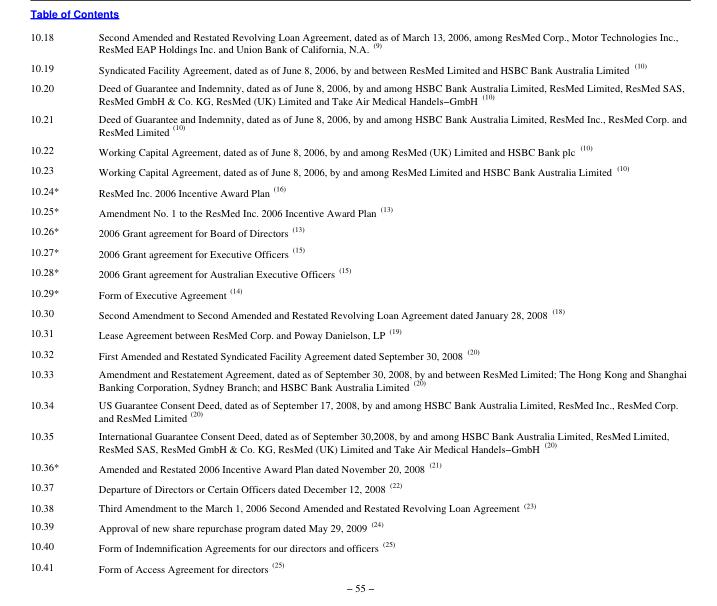table: (29, 28, 686, 574)
table column: (78, 28, 686, 574), (29, 28, 78, 574)
table row: (29, 77, 686, 108), (29, 108, 686, 139), (29, 363, 686, 394), (29, 394, 686, 425), (29, 425, 686, 456), (29, 28, 686, 57), (29, 139, 686, 160), (29, 200, 686, 221), (29, 261, 686, 282), (29, 302, 686, 323), (29, 456, 686, 477), (29, 515, 686, 536), (29, 57, 686, 77), (29, 160, 686, 180), (29, 180, 686, 200), (29, 221, 686, 241), (29, 241, 686, 261), (29, 282, 686, 302), (29, 323, 686, 343), (29, 343, 686, 363), (29, 477, 686, 497), (29, 536, 686, 556), (29, 497, 686, 515), (29, 556, 686, 574)
